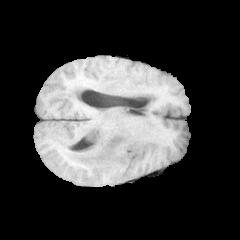glioma: (66, 126, 139, 174)
